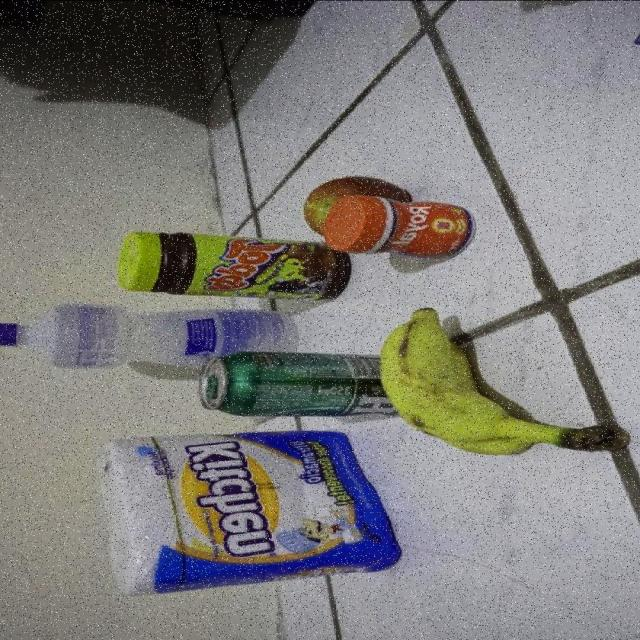AlcoholBottle: (0, 303, 297, 370)
Apple: (303, 177, 416, 240)
Banana: (380, 308, 630, 456)
BeerCan: (198, 352, 406, 417)
ChocolatePowder: (119, 232, 352, 300)
Napkin: (97, 429, 399, 596)
Yeast: (324, 196, 475, 258)
